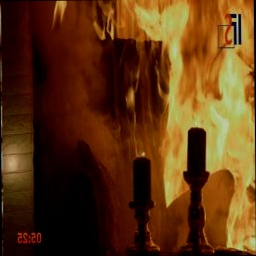fire: (128, 0, 255, 256)
